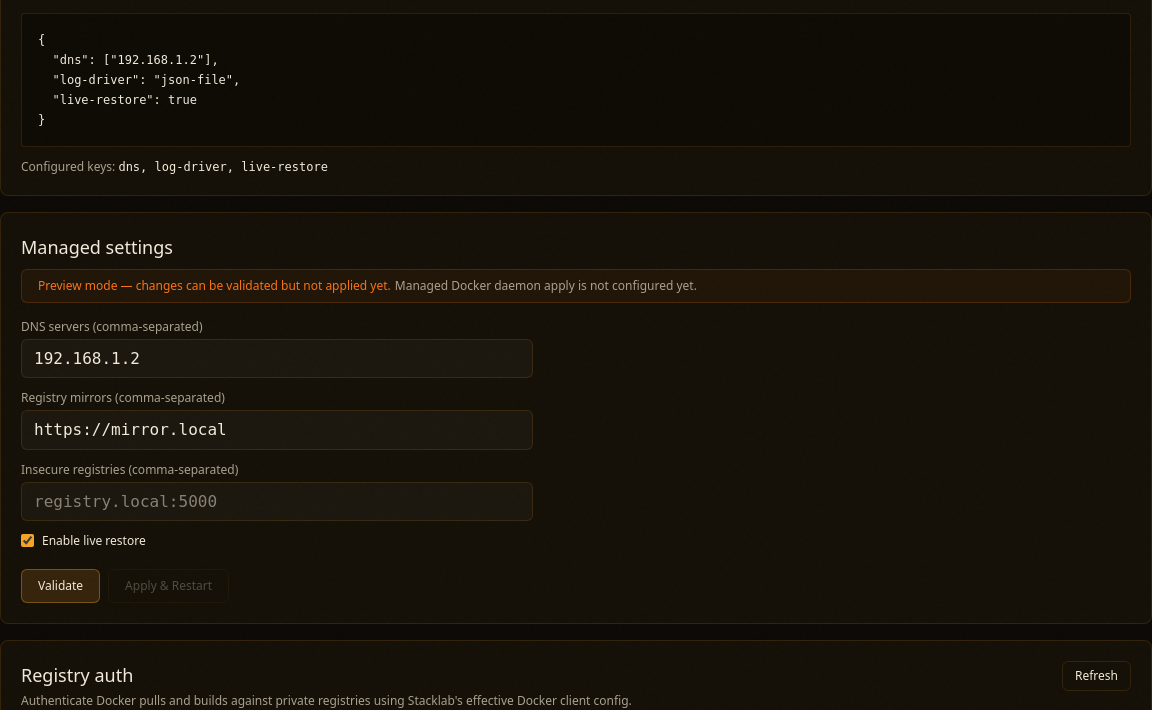
Scenario: DockerAdminPage › validates managed settings and shows preview
(page scrolled)
Replace the text in the field labelled "DNS servers (comma-separated)" with "1.1.1.1" at x=277, y=359, box [21,339,533,378]
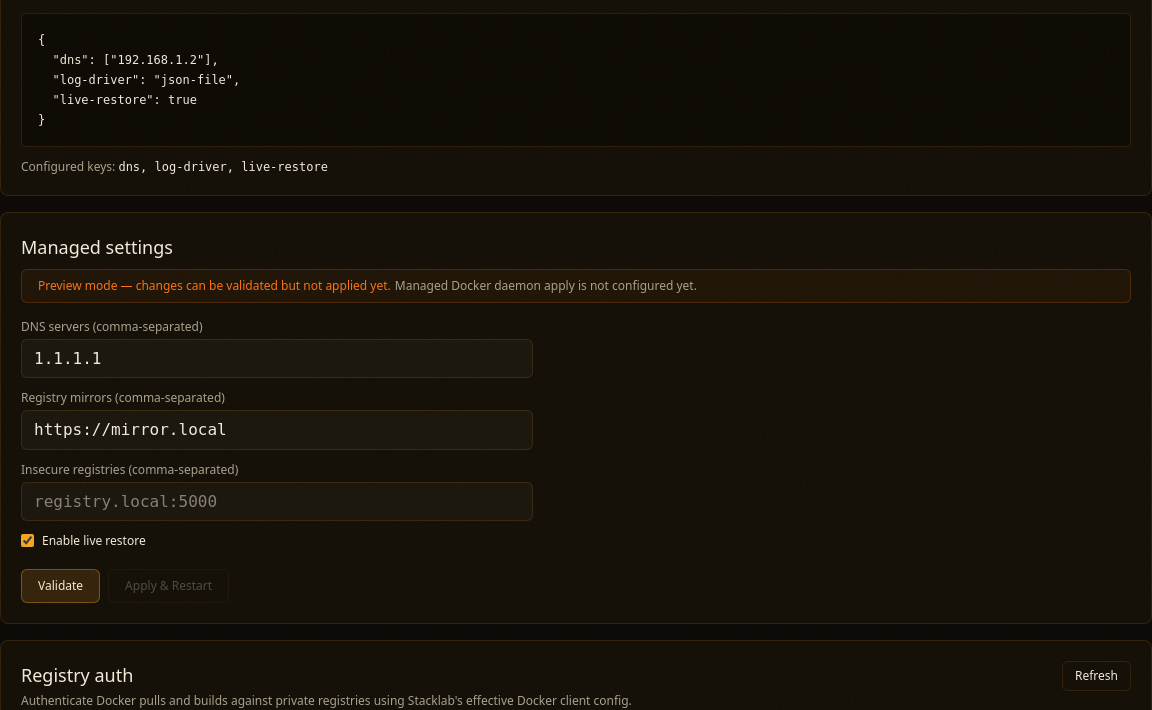
Click the button "Validate" at x=61, y=586, box [21,569,100,603]
(page scrolled)
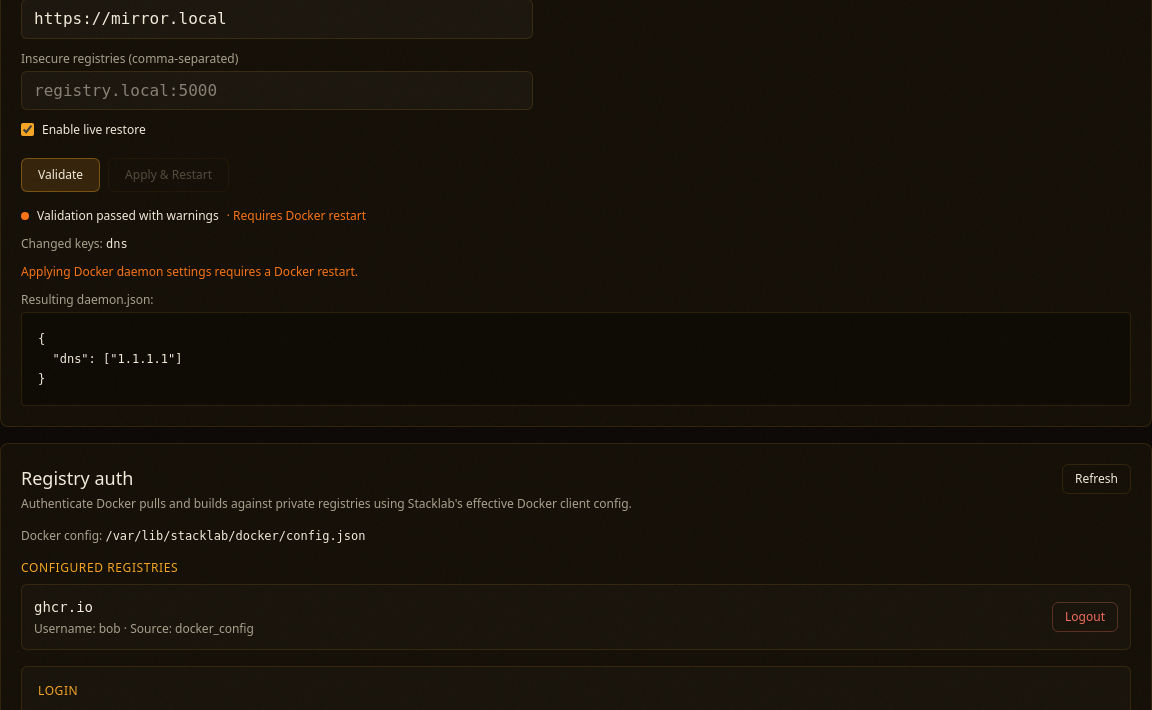
Expected: the text "Validation passed with warnings" is shown, [37,208,219,224]
Expected: the text "· Requires Docker restart" is shown, [227,208,366,224]
Expected: the text "{ \"dns\": [\"1.1.1.1\"] }" is shown, [38,332,182,386]
